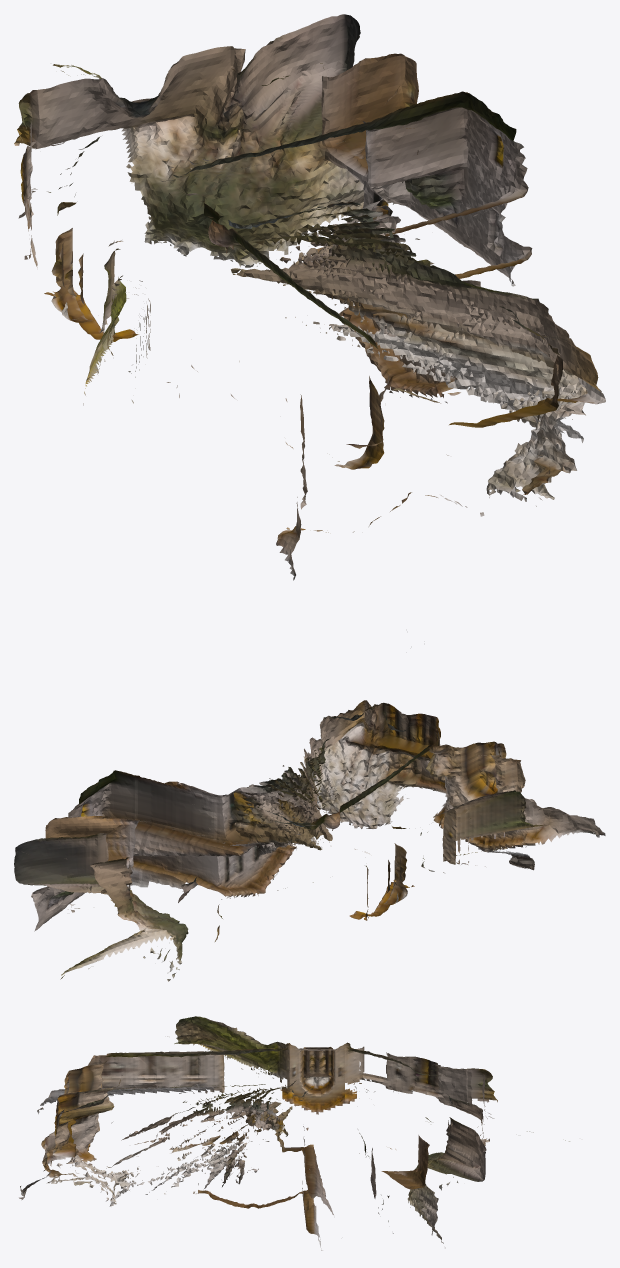
File: modern_house_with_lush_landscaping_collider.glb
3 views of the same model, one above another, from view 1: azimuth 30°, elevation 25°; view 2: azimuth 150°, elevation 25°; view 3: azimuth 270°, elevation 25° (orthographic). The views are drawn at different scales.
Visible parts, largest first — view 1: world; view 2: world; view 3: world.
Part boxes in pixels (x1,y1,x2,y2): world: [14, 14, 605, 580]; world: [14, 700, 605, 981]; world: [19, 1016, 569, 1250].
Bounding box in the file's own units: 9 × 4.07 × 13.98.
